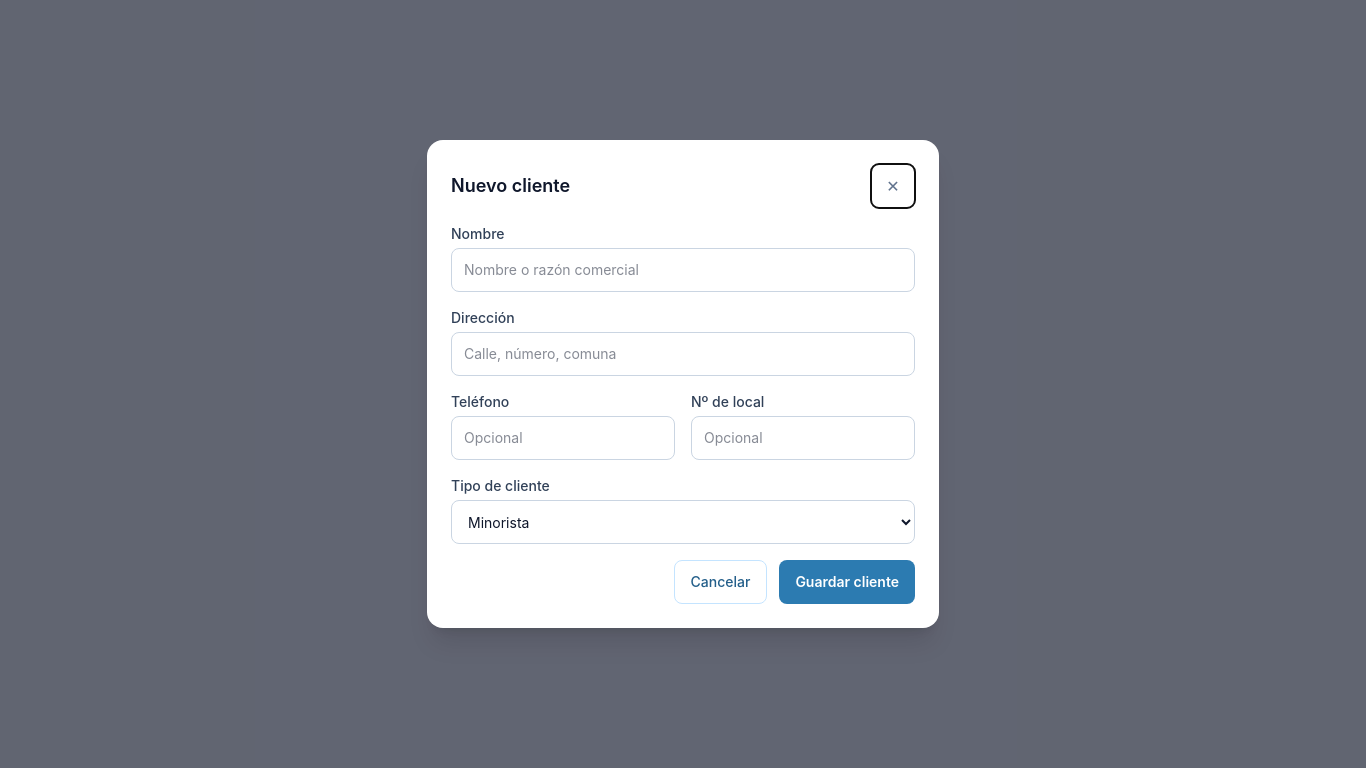
Test: A1-12 · errores describen controles con nombre estable y RHF enfoca el primero
Expected: the heading "Nuevo cliente" is shown, left=451, top=172, right=570, bottom=200
What coordinates should you click on to do the following:
click the button "Guardar cliente"
I would click on:
 (847, 582)
Its box is left=779, top=560, right=915, bottom=604.
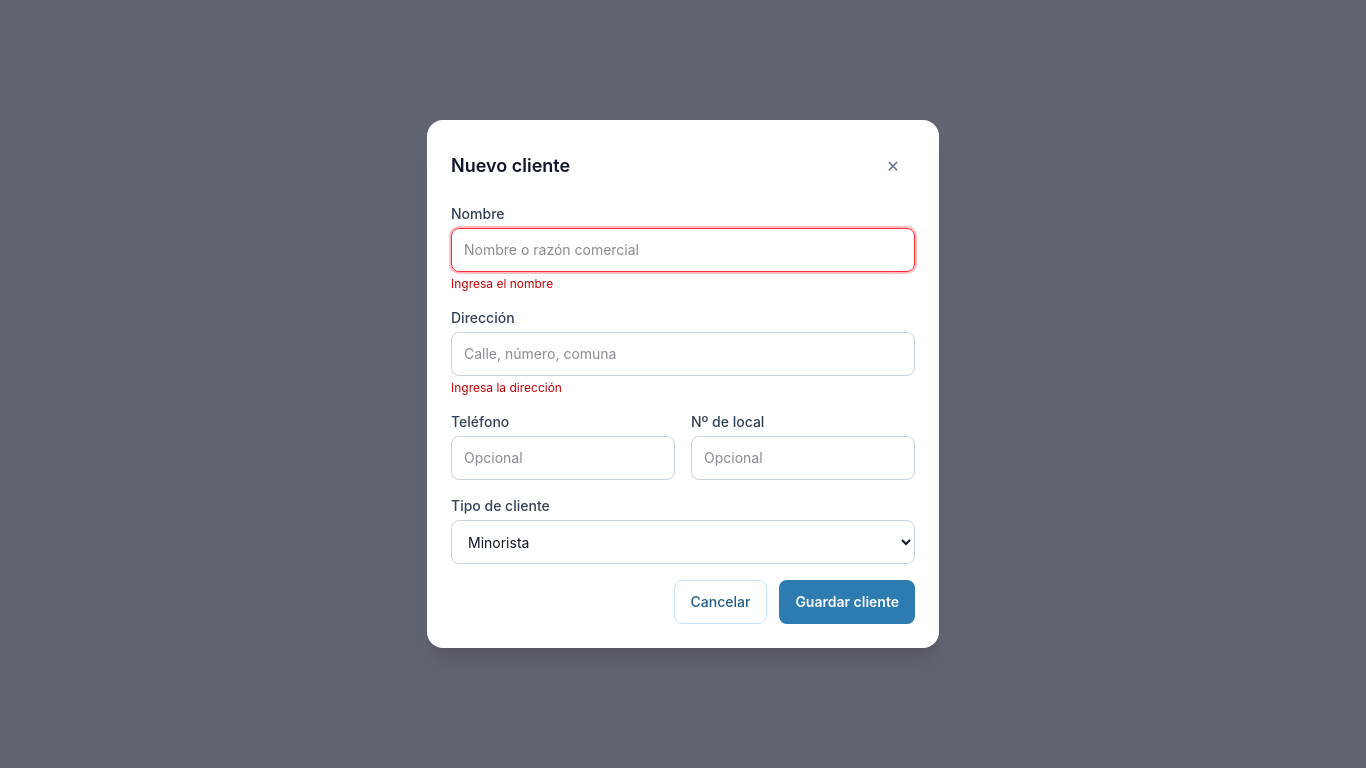
Result: the text "Ingresa el nombre" is shown at left=451, top=276, right=553, bottom=291
